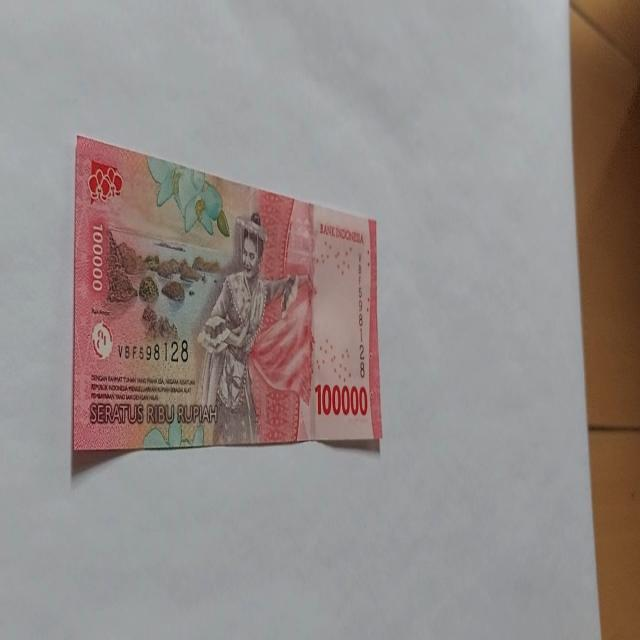seratus ribu rupiah: (71, 134, 382, 454), (193, 210, 311, 446)
